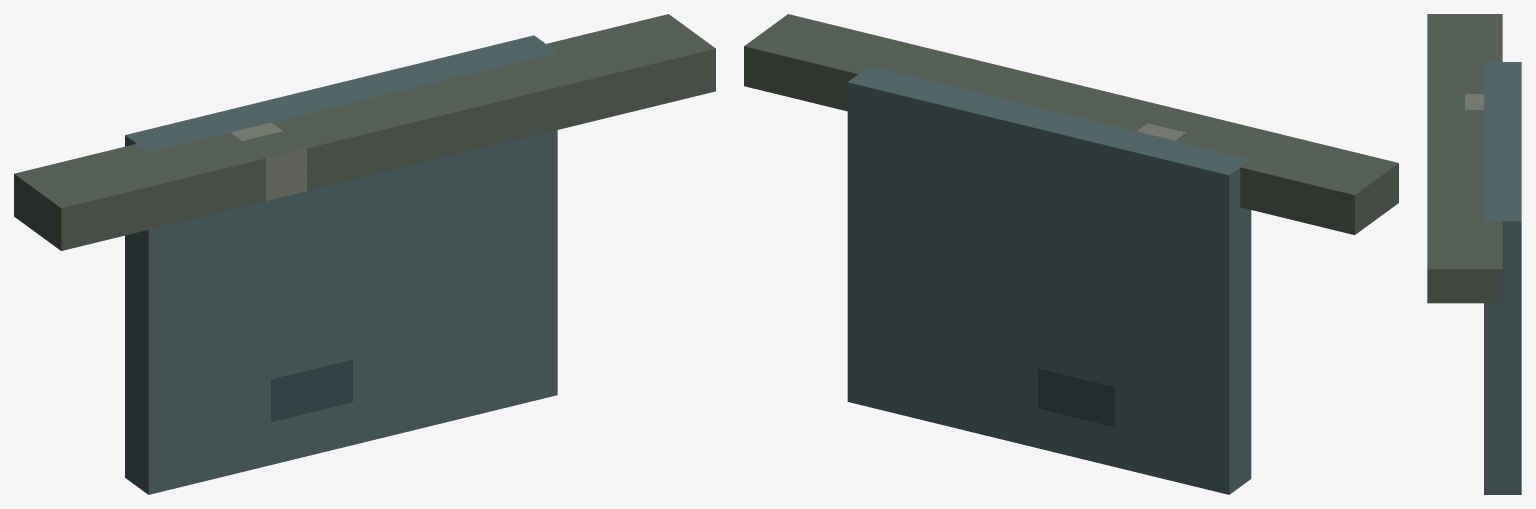
File: towel_rail.gltf
3 views of the same model, side by side, from view 1: azimuth 30°, elevation 25°; view 2: azimuth 150°, elevation 25°; view 3: azimuth 270°, elevation 25° (orthographic). The views are drawn at different scales.
Parts seen in each view (by area): view 1: towel, rail; view 2: towel, rail; view 3: rail, towel.
Boxes of the visible parts, <box> form: towel: <box>125,35,557,494</box>; rail: <box>14,14,715,250</box>; towel: <box>847,66,1251,494</box>; rail: <box>744,14,1398,234</box>; rail: <box>1427,14,1502,303</box>; towel: <box>1484,62,1521,494</box>.
Bounding box in the file's own units: 1 × 0.5 × 0.1562.
Materials: 2 (2 with a texture image).
